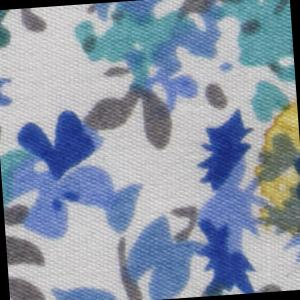Oil Stain: (249, 99, 300, 244)
